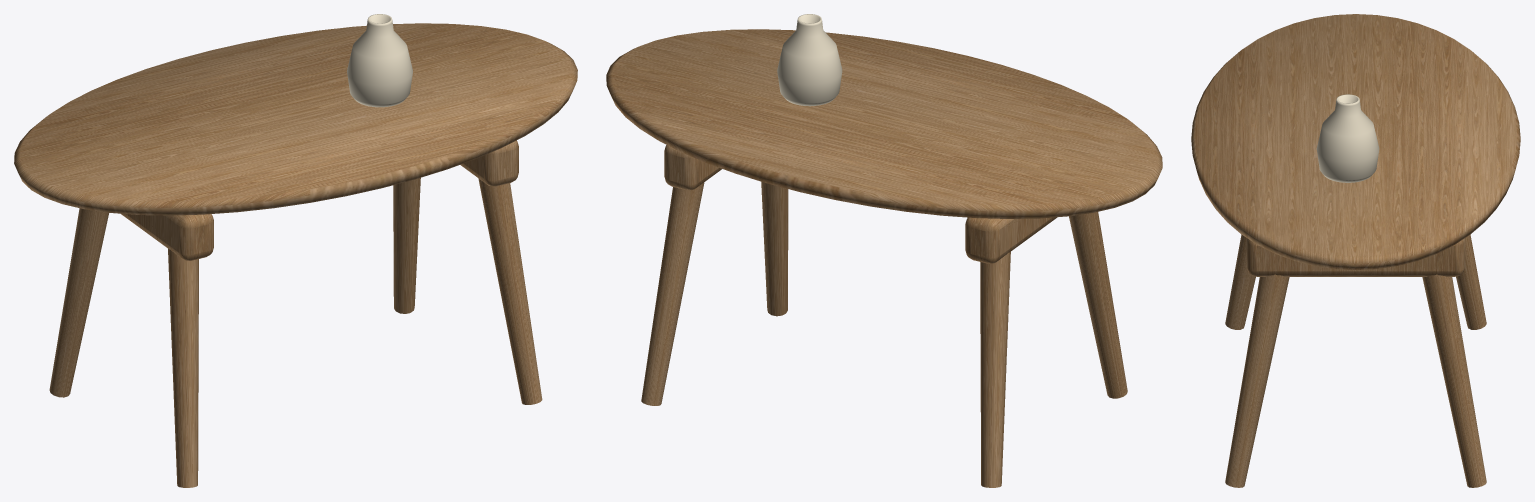
The model's file is dining-table.glb.
The picture shows the model from 3 angles, left to right: view 1: azimuth 30°, elevation 25°; view 2: azimuth 150°, elevation 25°; view 3: azimuth 270°, elevation 25°; orthographic projection. The views are drawn at different scales.
Parts seen in each view (by area): view 1: Satin quarter-cut oak, Glazed ivory ceramic; view 2: Satin quarter-cut oak, Glazed ivory ceramic; view 3: Satin quarter-cut oak, Glazed ivory ceramic.
Part boxes in pixels (left/top/right/bottom): Satin quarter-cut oak: left=14, top=23, right=577, bottom=487; Glazed ivory ceramic: left=347, top=14, right=412, bottom=107; Satin quarter-cut oak: left=606, top=29, right=1162, bottom=487; Glazed ivory ceramic: left=777, top=14, right=842, bottom=106; Satin quarter-cut oak: left=1191, top=14, right=1520, bottom=487; Glazed ivory ceramic: left=1316, top=94, right=1379, bottom=182.
Bounding box in the file's own units: 1.48 × 0.9559 × 0.83.
Materials: 2 (1 with a texture image).
